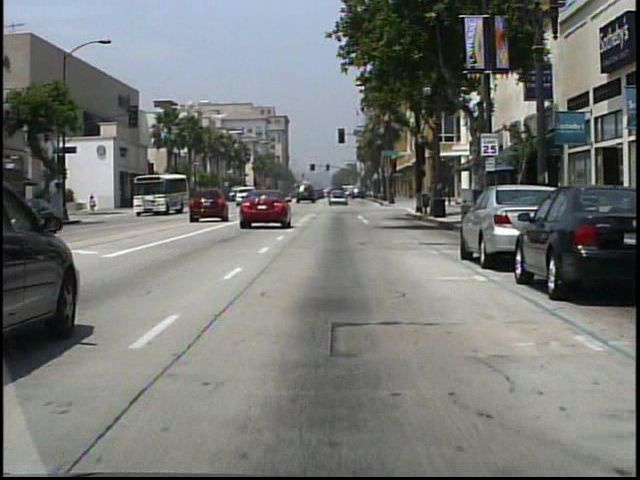person: (90, 195, 98, 215)
